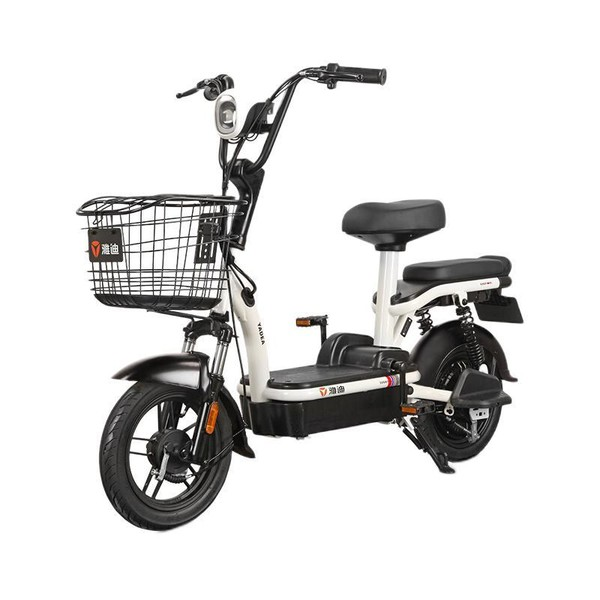MNV: (85, 63, 520, 533)
